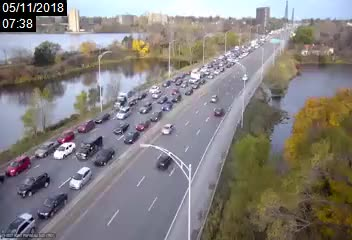congestion: (2, 120, 139, 221), (86, 77, 191, 131), (162, 58, 219, 87), (207, 47, 239, 67)
personal_car: (17, 171, 51, 199), (37, 193, 68, 219), (68, 167, 93, 192), (5, 154, 31, 178), (76, 137, 101, 159), (94, 147, 114, 168), (55, 140, 74, 160), (36, 140, 53, 158), (156, 152, 173, 169), (58, 128, 74, 143), (78, 119, 95, 133), (160, 123, 175, 138), (122, 130, 138, 144), (95, 112, 110, 125), (113, 122, 129, 134), (117, 107, 131, 120), (148, 110, 161, 122), (136, 120, 148, 132), (214, 105, 225, 116), (139, 103, 151, 113), (162, 101, 171, 111), (209, 94, 218, 103), (240, 73, 249, 82), (162, 79, 172, 87), (157, 96, 168, 103), (172, 95, 181, 103), (152, 90, 160, 98), (170, 87, 179, 94), (149, 85, 158, 92), (185, 88, 193, 95), (191, 83, 200, 89), (180, 81, 187, 87), (178, 73, 184, 79), (176, 80, 181, 86), (171, 77, 177, 82)
truck: (115, 91, 147, 110)
